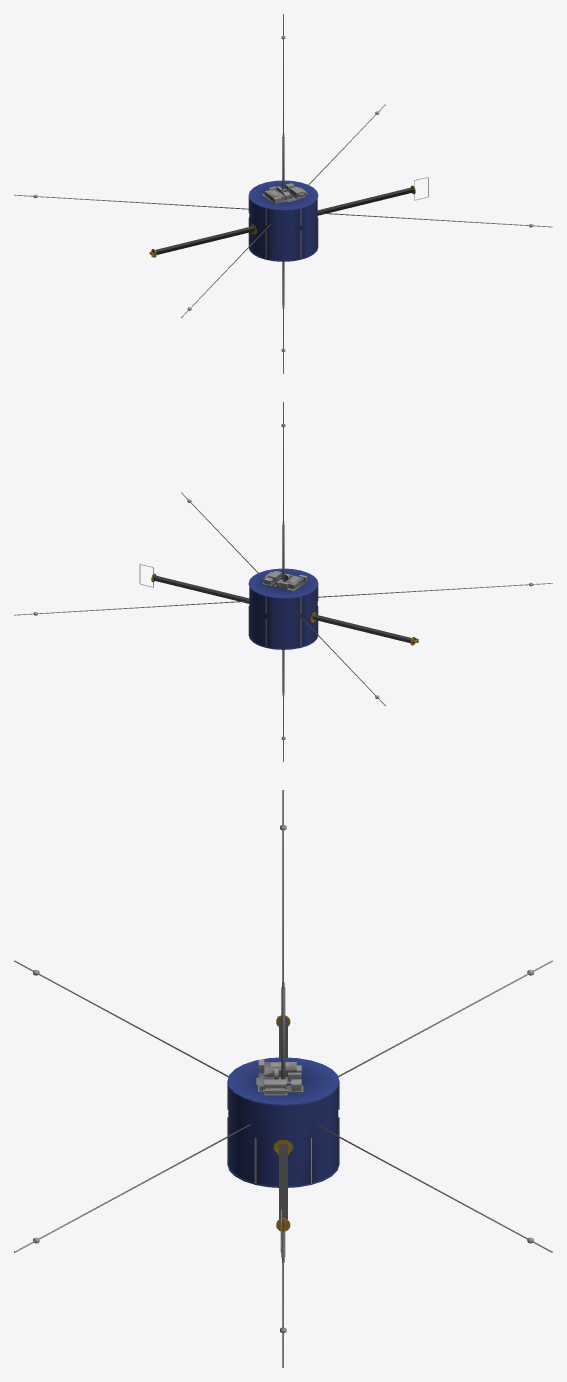
File: space-satellites-small-satellite_v2.glb
The picture shows the model from 3 angles, top to bottom: view 1: azimuth 30°, elevation 25°; view 2: azimuth 150°, elevation 25°; view 3: azimuth 270°, elevation 25°; orthographic projection. The views are drawn at different scales.
Parts seen in each view (by area): view 1: Small Satellite_v2.001, Small Satellite_v2; view 2: Small Satellite_v2.001, Small Satellite_v2; view 3: Small Satellite_v2.001, Small Satellite_v2.
Part boxes in pixels (x1,y1,x2,y2): Small Satellite_v2.001: (149,180,415,261); Small Satellite_v2: (14,14,552,373); Small Satellite_v2.001: (151,568,418,649); Small Satellite_v2: (14,402,552,761); Small Satellite_v2.001: (227,1015,339,1231); Small Satellite_v2: (14,790,552,1367).
Size of the model in its own units: 3 by 2.77 by 2.34.
